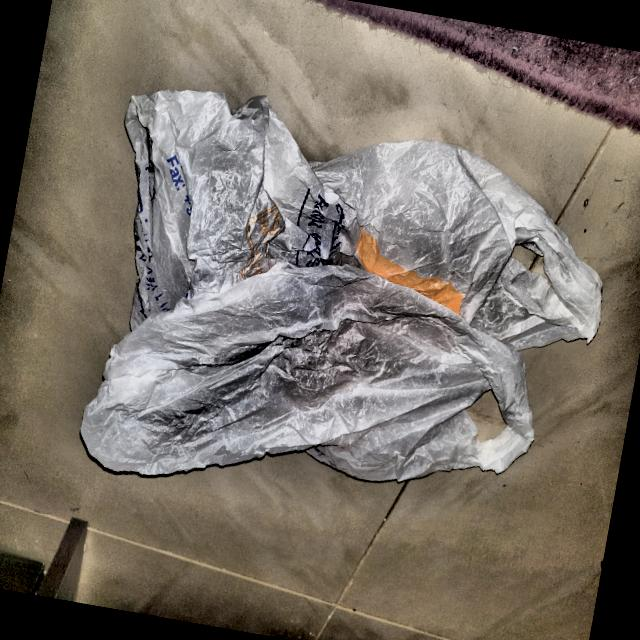plastic bag: (37, 50, 640, 561)
